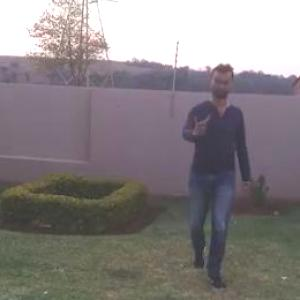takeoff-hand: (186, 109, 212, 138)
